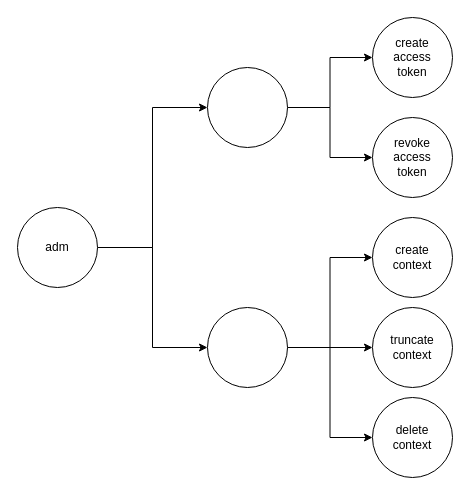
This 470x495 diagram has some shape labels left out. Here are the shapes that lost their labels. From the top down, the centre of each, then its label:
[247,107]: auth
[247,347]: context
